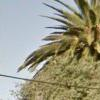Palm tree: (38, 5, 100, 77)
